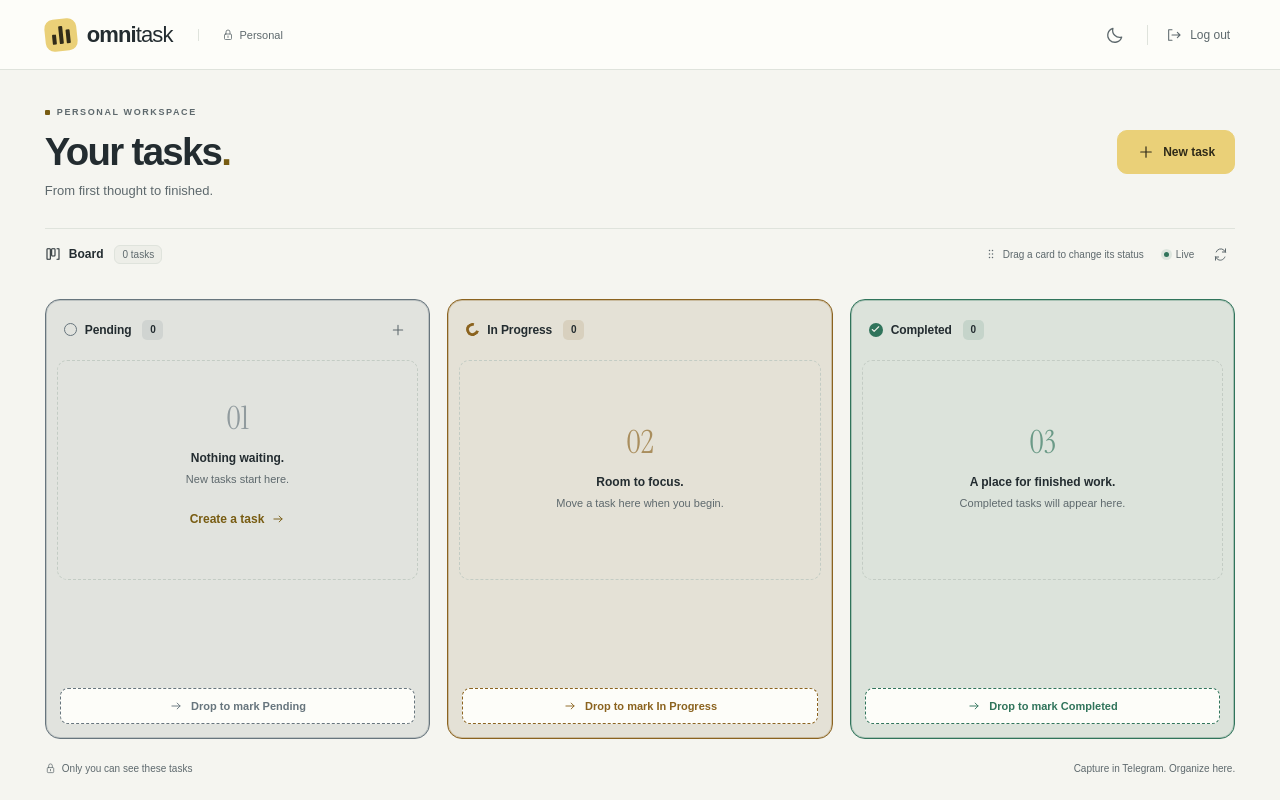
Test: private dashboard › keeps logout available after a connection failure
This screenshot has width=1280, height=800.
Expected: the text "Nothing waiting." is shown, top-left (191, 451), bottom-right (284, 465)
Click the button "Log out" at {"x": 1198, "y": 34}, box top-left (1161, 14), bottom-right (1235, 54)
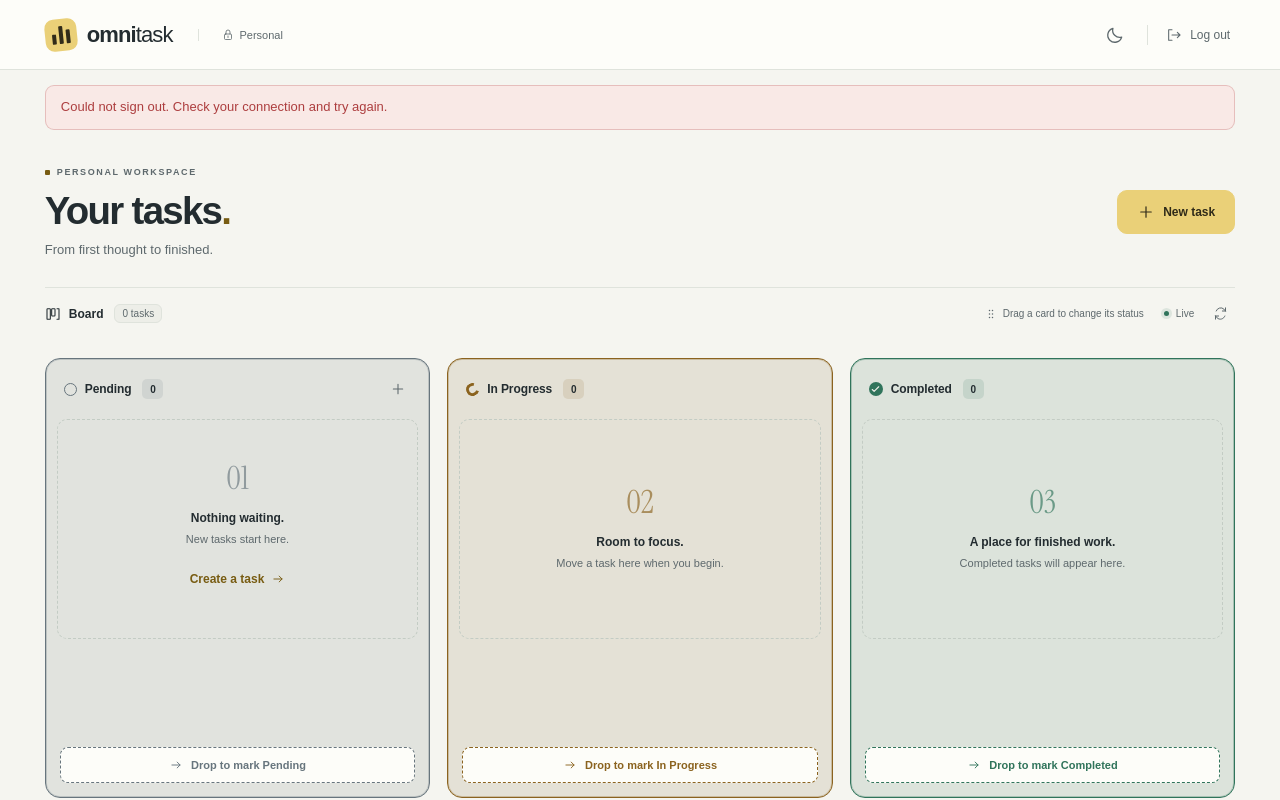
Expected: the message "Could not sign out. Check your connection and try again." is shown, top-left (45, 85), bottom-right (1235, 130)
